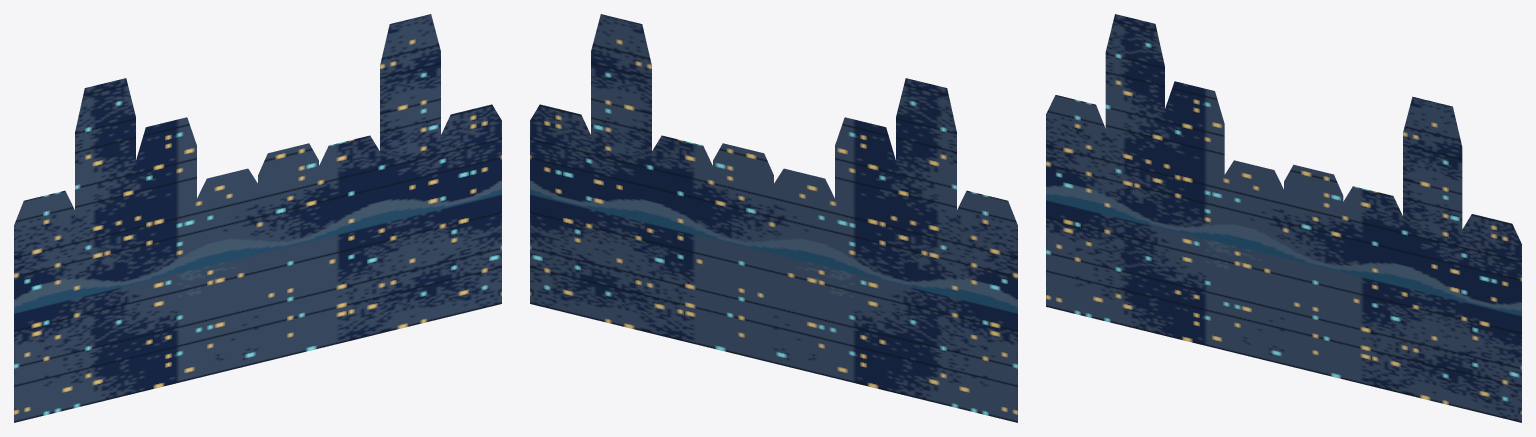
The model's file is cysky.arch.glb.
3 views of the same model, side by side, from view 1: azimuth 30°, elevation 25°; view 2: azimuth 150°, elevation 25°; view 3: azimuth 330°, elevation 25° (orthographic). The views are drawn at different scales.
Parts seen in each view (by area): view 1: kit_card_skyline; view 2: kit_card_skyline; view 3: kit_card_skyline.
Part boxes in pixels (<box>): kit_card_skyline: <box>14,14,501,422</box>; kit_card_skyline: <box>530,14,1017,422</box>; kit_card_skyline: <box>1046,14,1521,422</box>.
Size of the model in its own units: 56 by 34.84 by 0.
1 material, 1 textured.
